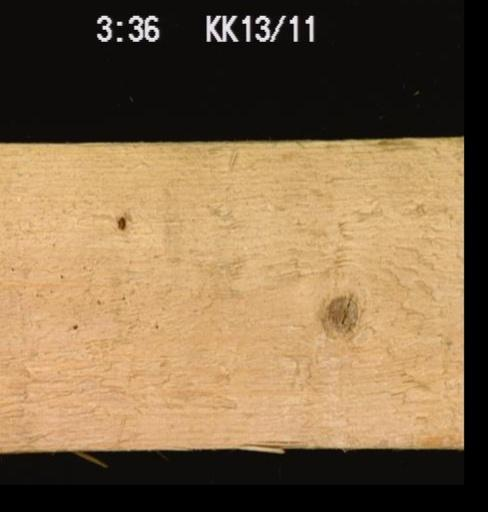small_knot: (113, 214, 125, 231)
sound_knot: (320, 293, 359, 337)
wave: (232, 430, 312, 448)
